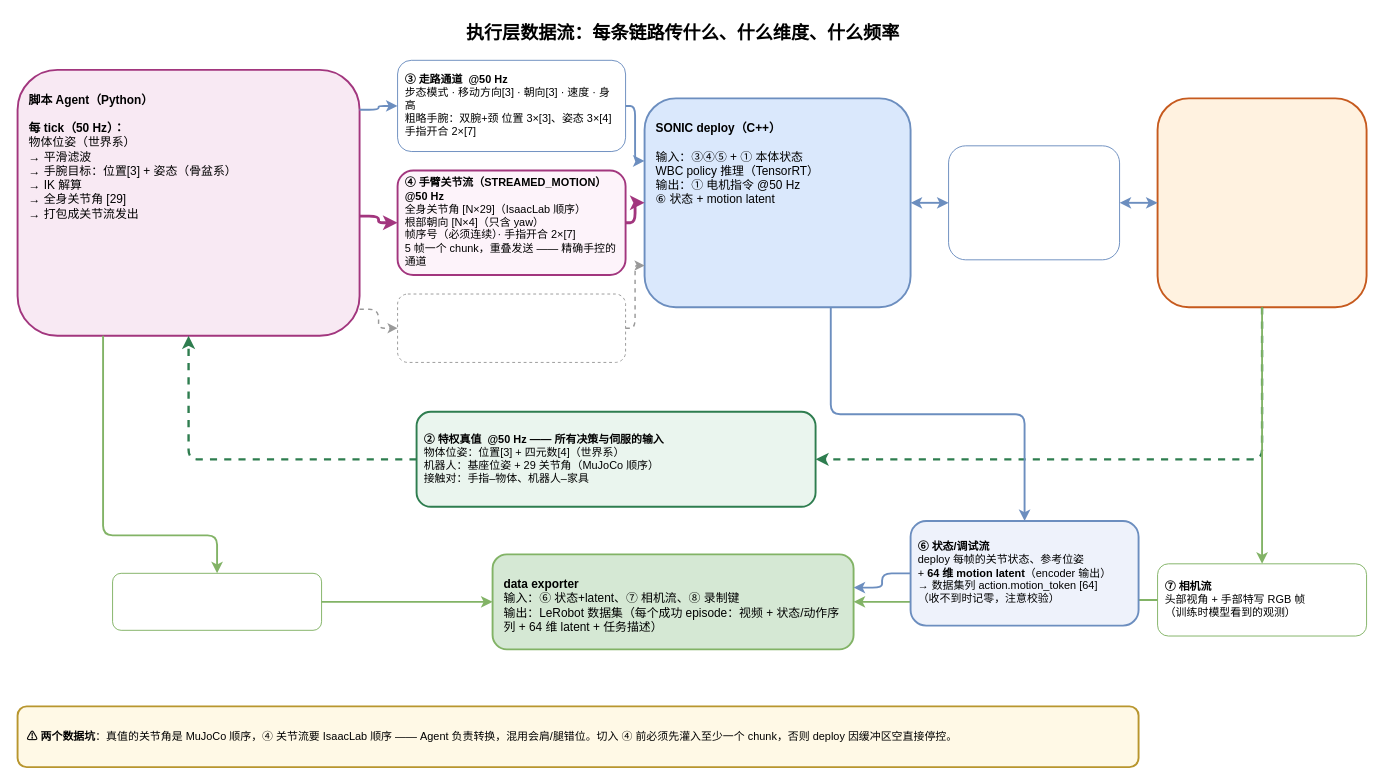
Some shapes in this 1383 by 784 pixel diagram are drawn without their labels. Each missing label, with the centre of its shape:
"MuJoCo 仿真（实时） 输入：① 电机指令 物理步进 输出：① 本体状态 ② 真值 ⑦ 相机" goes at (1261,202).
"① DDS（domain = 实例号） → 电机指令：29 关节的 目标角 + 增益 + 力矩 ← 本体状态：29 关节角/角速度 + IMU 姿态" goes at (1034,202).
"⑤ 通道切换指令 走路 / 手臂关节流 二选一 + 录制模式标志" goes at (511,327).
"⑧ 录制键 保存 / 丢弃（代替人按按钮）" goes at (217,601).
